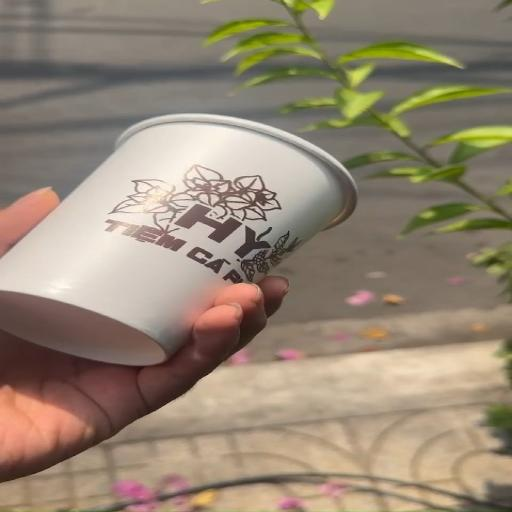Ly_giay: (0, 113, 356, 365)
